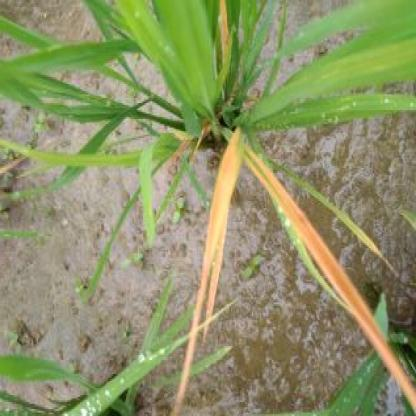Tungro: (193, 146, 242, 415)
